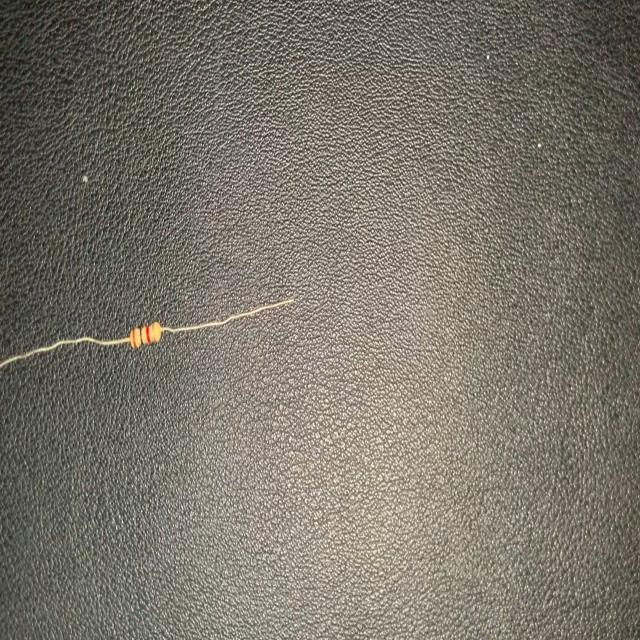resistor: (0, 297, 296, 369)
